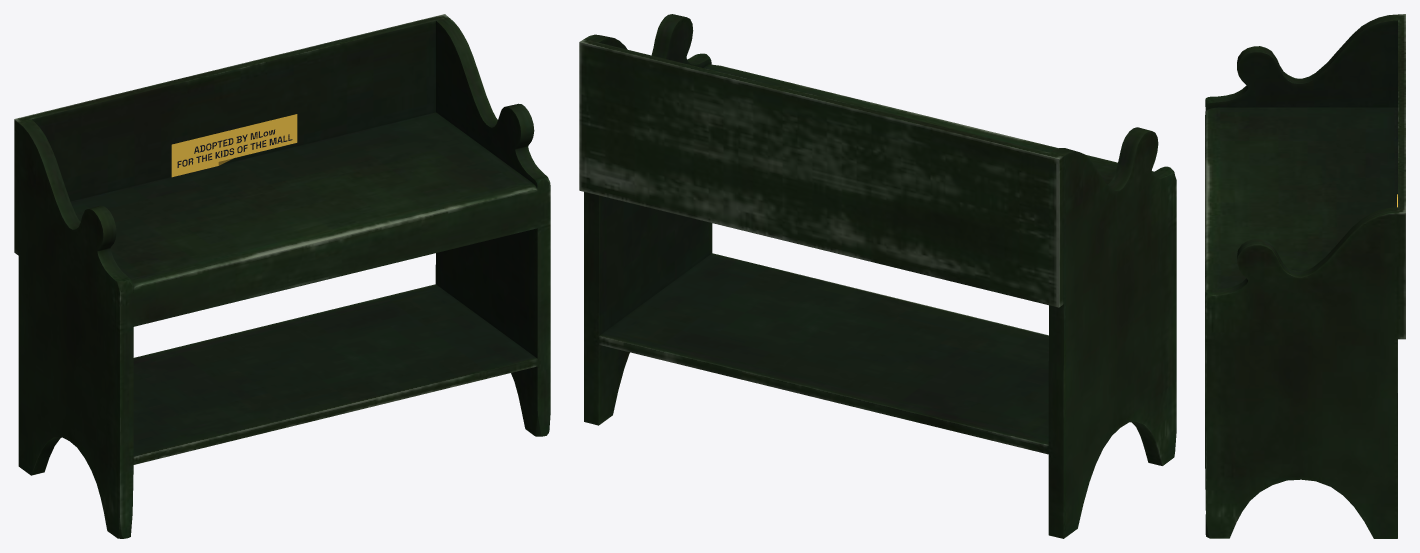
Rendered from nyb_bigdaddy_bench.glb.
The picture shows the model from 3 angles, left to right: view 1: azimuth 30°, elevation 25°; view 2: azimuth 150°, elevation 25°; view 3: azimuth 270°, elevation 25°; orthographic projection. The views are drawn at different scales.
Parts seen in each view (by area): view 1: painted_wooden_bench, stk_lbl_09291dee6c.png; view 2: painted_wooden_bench; view 3: painted_wooden_bench.
Boxes of the visible parts, x1,y1,x2,y2 form: painted_wooden_bench: [14, 14, 550, 538]; stk_lbl_09291dee6c.png: [171, 114, 297, 177]; painted_wooden_bench: [579, 14, 1176, 538]; painted_wooden_bench: [1205, 14, 1405, 538].
Size of the model in its own units: 1.16 by 0.8893 by 0.4965.
2 materials, 2 textured.
